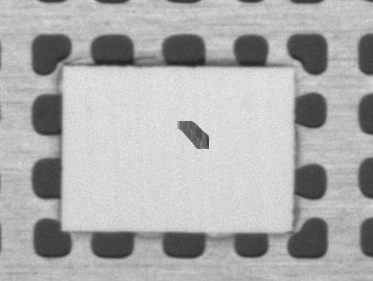DIE_INK: (174, 119, 214, 150)
